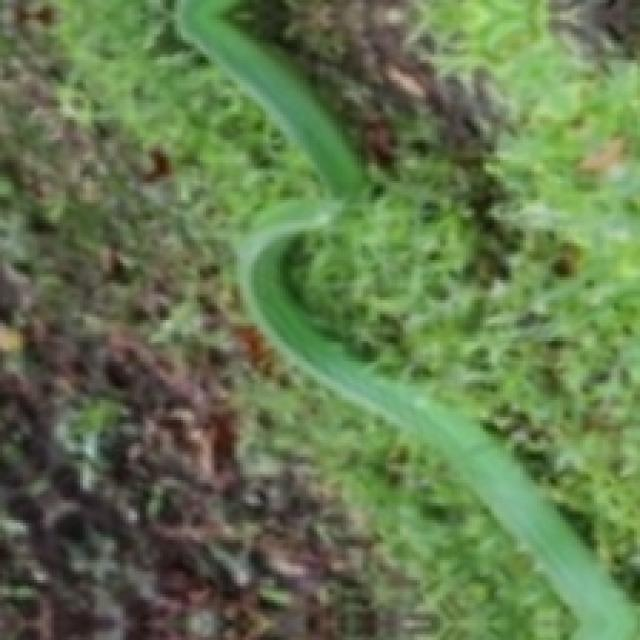red-tailed green ratsnake: (177, 0, 634, 637)
